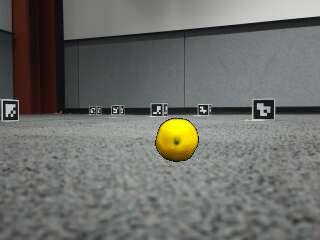lemon: (155, 118, 197, 160)
